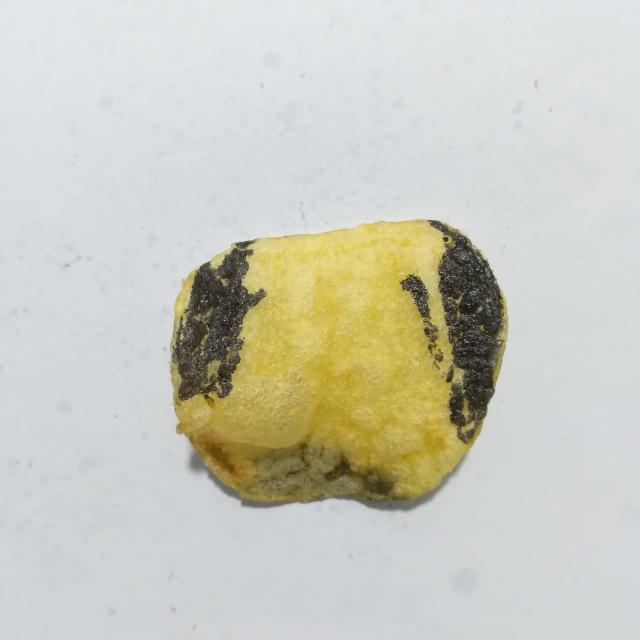chip: (170, 220, 508, 502)
damaged: (429, 221, 503, 443), (172, 241, 266, 400), (400, 274, 438, 355), (434, 349, 444, 362), (433, 361, 440, 370)
semi-damaged: (188, 430, 407, 502)
